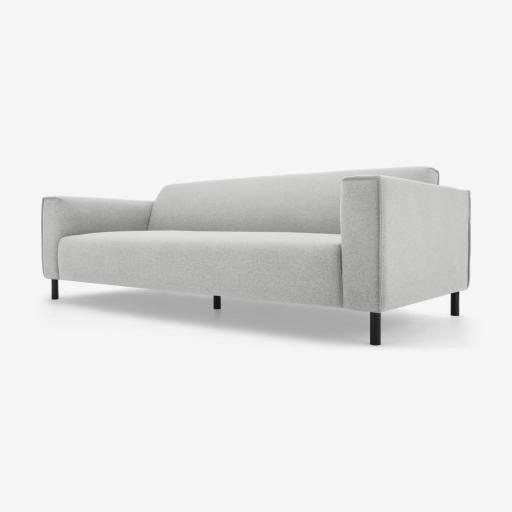back_cushion: (147, 167, 437, 234)
left_arm: (341, 176, 470, 312)
legs: (371, 313, 381, 345), (51, 280, 59, 299), (451, 293, 458, 314), (214, 296, 220, 309)
one-seater: (0, 0, 511, 512)
right_arm: (42, 196, 153, 280)
seat_cushion: (58, 230, 341, 306)
